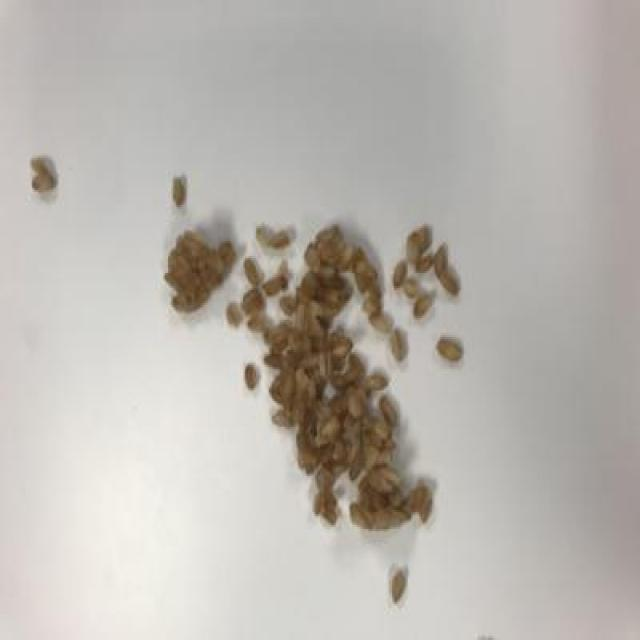compost: (129, 146, 473, 588)
